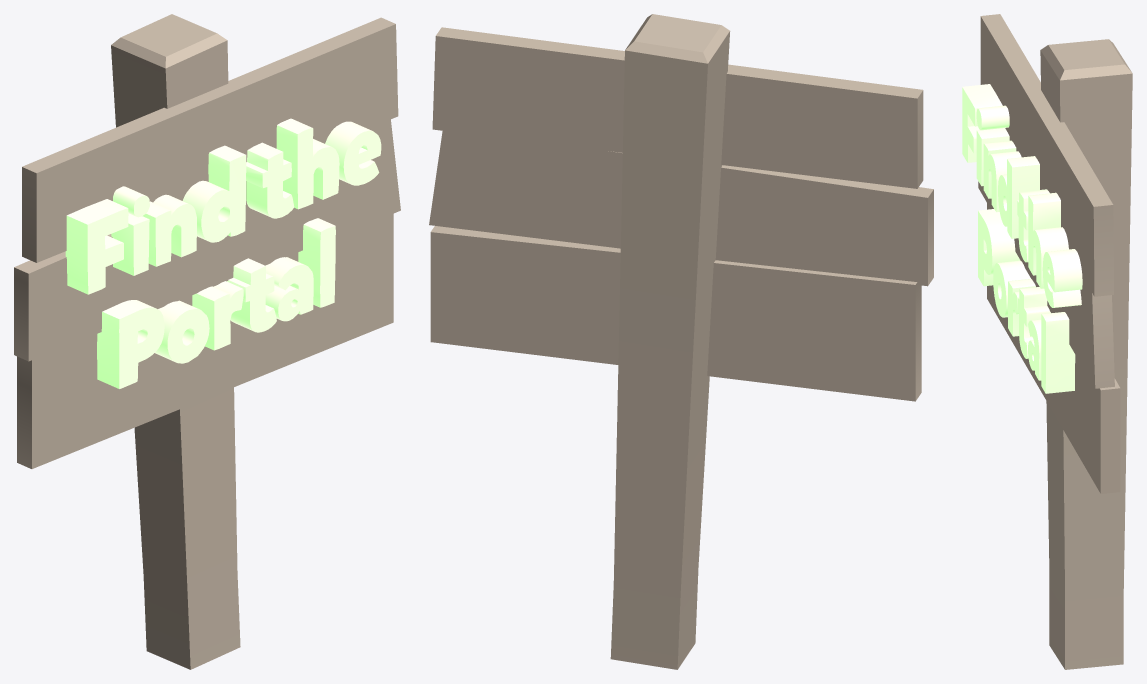
The model's file is sign3.glb.
3 renders of one model, left to right at view 1: azimuth 30°, elevation 25°; view 2: azimuth 150°, elevation 25°; view 3: azimuth 270°, elevation 25°, orthographic. The views are drawn at different scales.
Visible parts, largest first — view 1: typeMesh4; view 2: typeMesh4; view 3: typeMesh4.
Boxes of the visible parts, x1,y1,x2,y2 form: typeMesh4: (14,14,400,669); typeMesh4: (429,14,933,669); typeMesh4: (962,14,1132,669).
Bounding box in the file's own units: 0.0236 × 0.032 × 0.00837.
